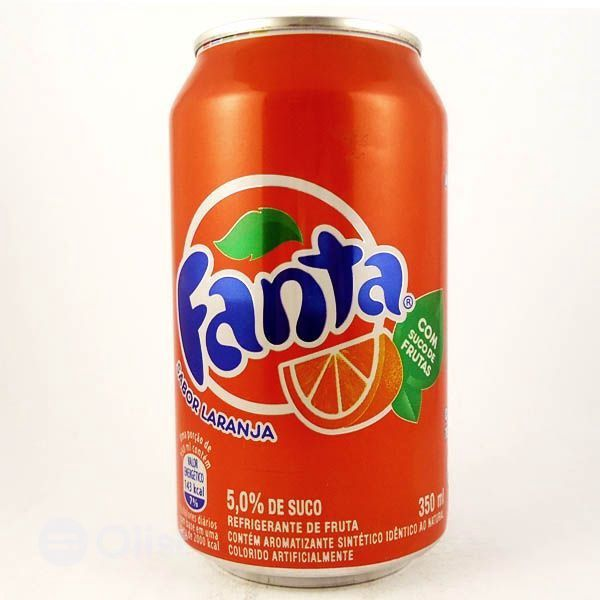fanta_can: (170, 15, 449, 587)
